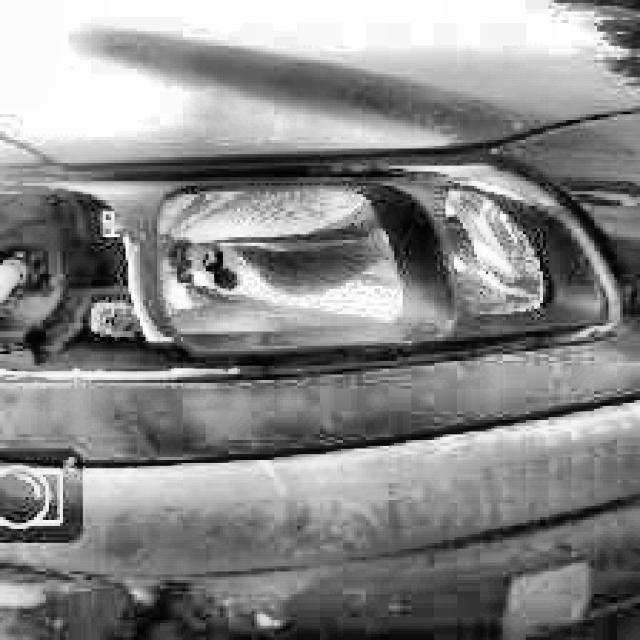head_lamp: (155, 187, 339, 339), (359, 190, 551, 319)
